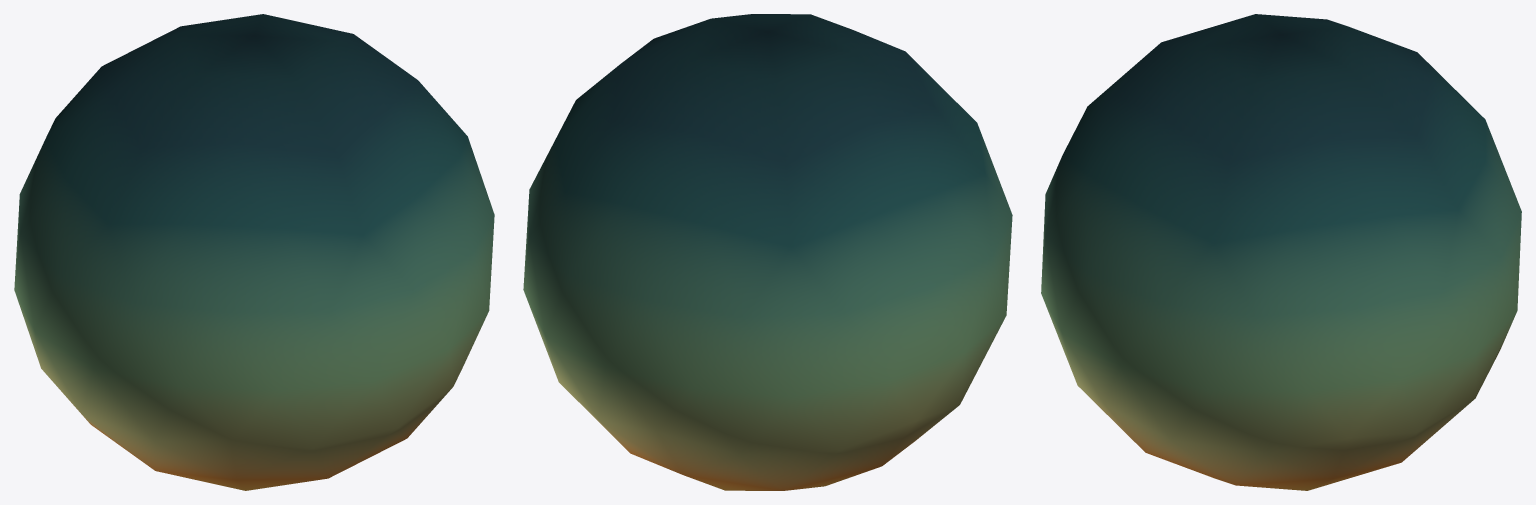
Rendered from SkyDome6.dae.
3 views of the same model, side by side, from view 1: azimuth 30°, elevation 25°; view 2: azimuth 150°, elevation 25°; view 3: azimuth 270°, elevation 25° (orthographic).
Visible parts, largest first — view 1: F3:GeoDome1-0; view 2: F3:GeoDome1-0; view 3: F3:GeoDome1-0.
Part boxes in pixels (bbox=[...]): F3:GeoDome1-0: bbox=[14, 14, 494, 490]; F3:GeoDome1-0: bbox=[523, 14, 1012, 490]; F3:GeoDome1-0: bbox=[1041, 14, 1521, 490].
Bounding box in the file's own units: 25 × 25 × 25.
